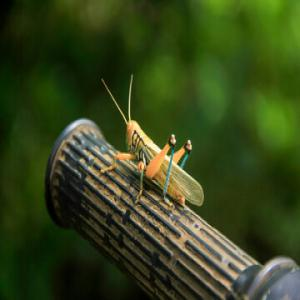locust: (109, 82, 208, 205)
